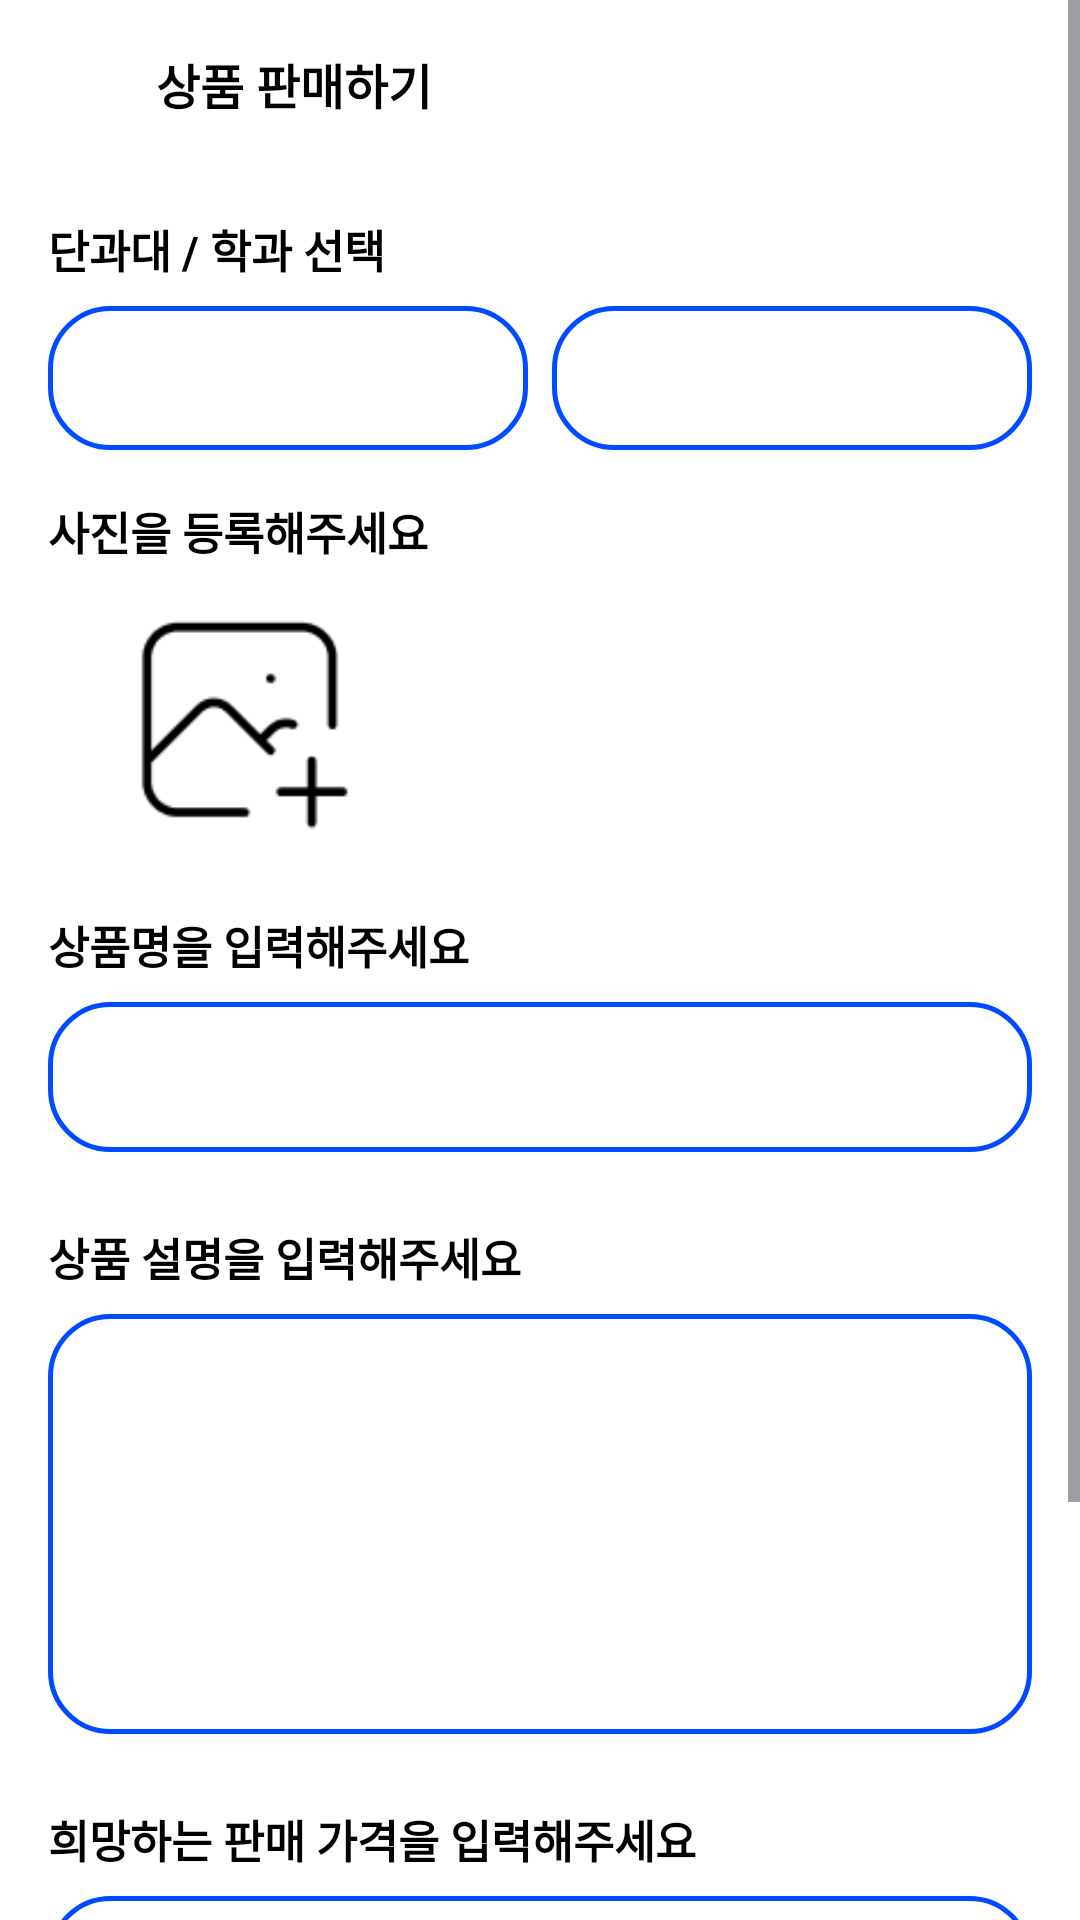

Locate icon controls on the screen. Image size 1080 × 1920, boxes as (x1, y1, x2, y2).
사진 추가: (141, 621, 348, 829)
